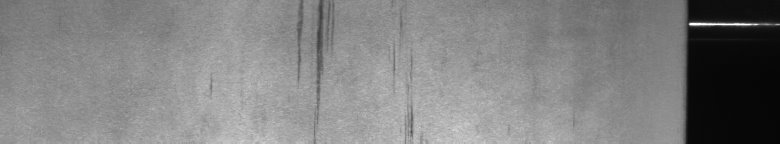hd: (294, 4, 336, 136)
